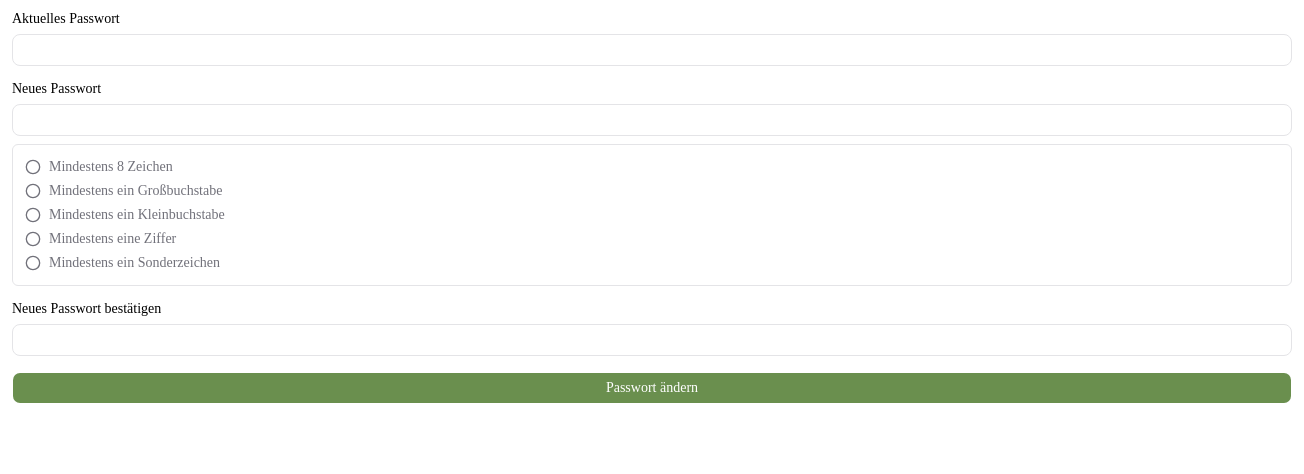
ChangePasswordForm › wrong-current-password renders the generic destructive Alert
The width and height of the screenshot is (1304, 474).
Type "OldSecret1!" into the password field labelled "Aktuelles Passwort" at coordinates (652, 50), box [12,34,1292,66]
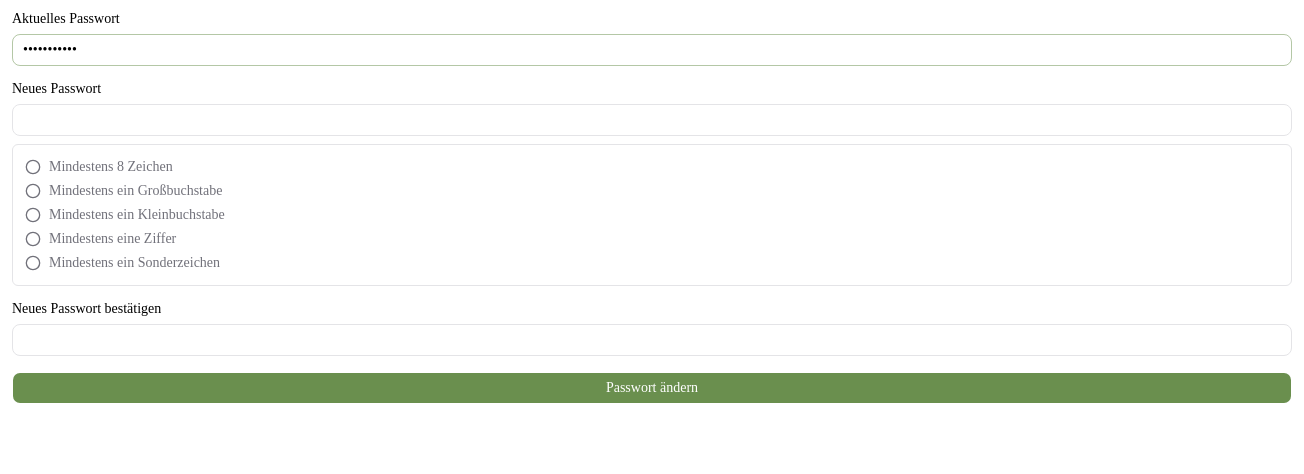
Type "Abc12345!" into the password field labelled "Neues Passwort" at coordinates (652, 120), box [12,104,1292,136]
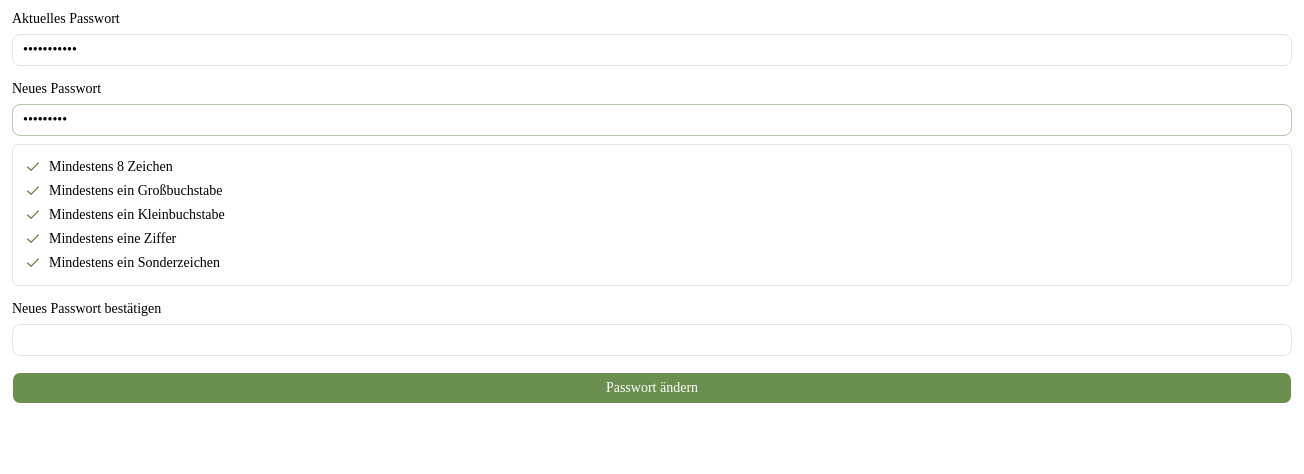
Type "Abc12345!" into the password field labelled "Neues Passwort bestätigen" at coordinates (652, 340), box [12,324,1292,356]
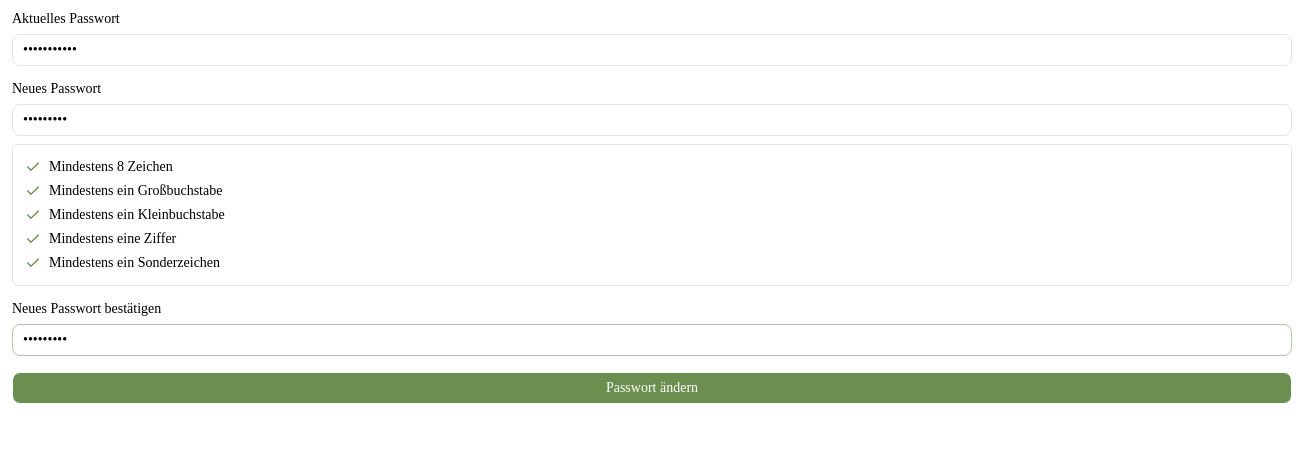
Click the button "Passwort ändern" at coordinates (652, 388), box [12,372,1292,404]
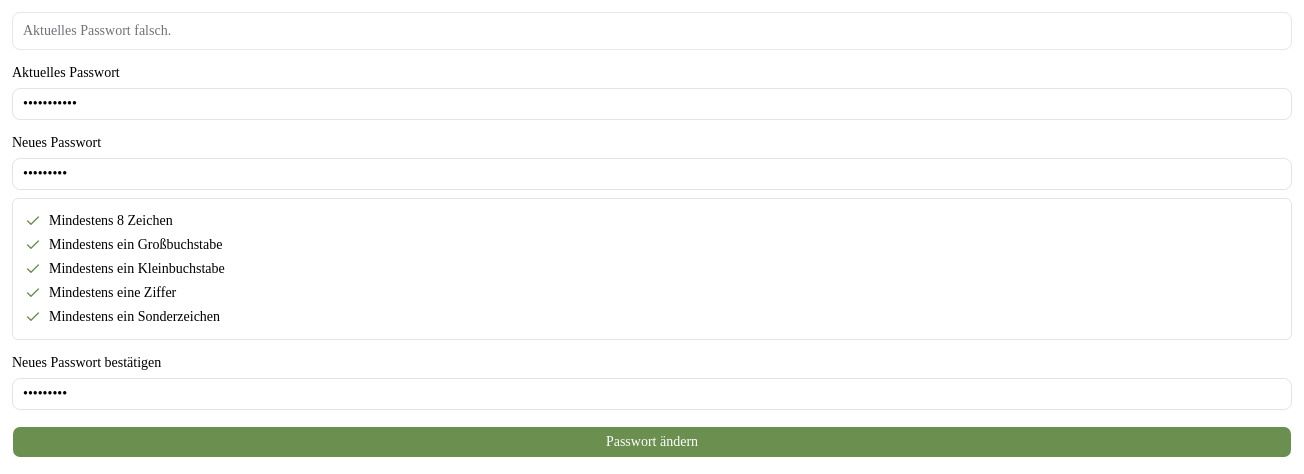
expect the text "Aktuelles Passwort falsch." is shown: met, box [23,23,171,38]
